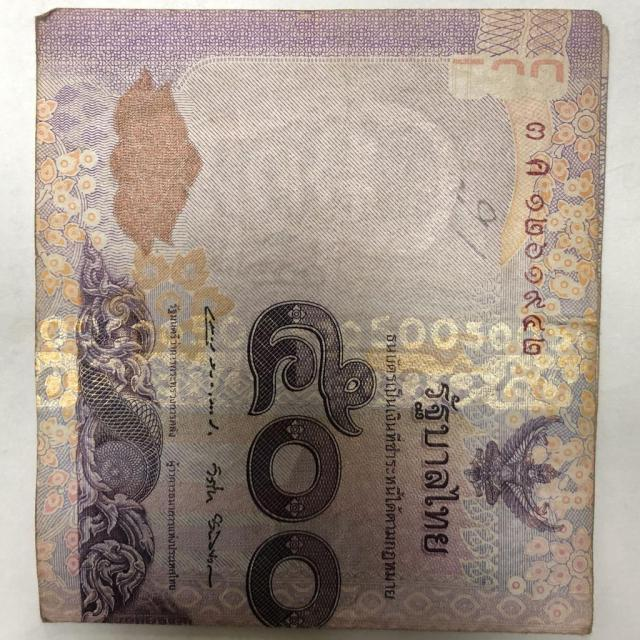THAI500: (8, 2, 614, 639)
